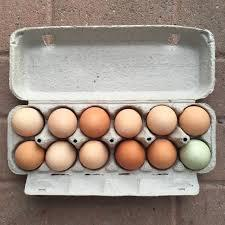egg: (76, 140, 112, 174), (80, 106, 114, 140), (116, 138, 147, 174), (184, 136, 212, 174), (150, 138, 180, 173), (146, 104, 178, 136), (11, 108, 45, 138), (12, 142, 46, 171), (48, 141, 76, 173), (180, 106, 210, 135), (115, 109, 144, 137), (48, 110, 77, 136)
